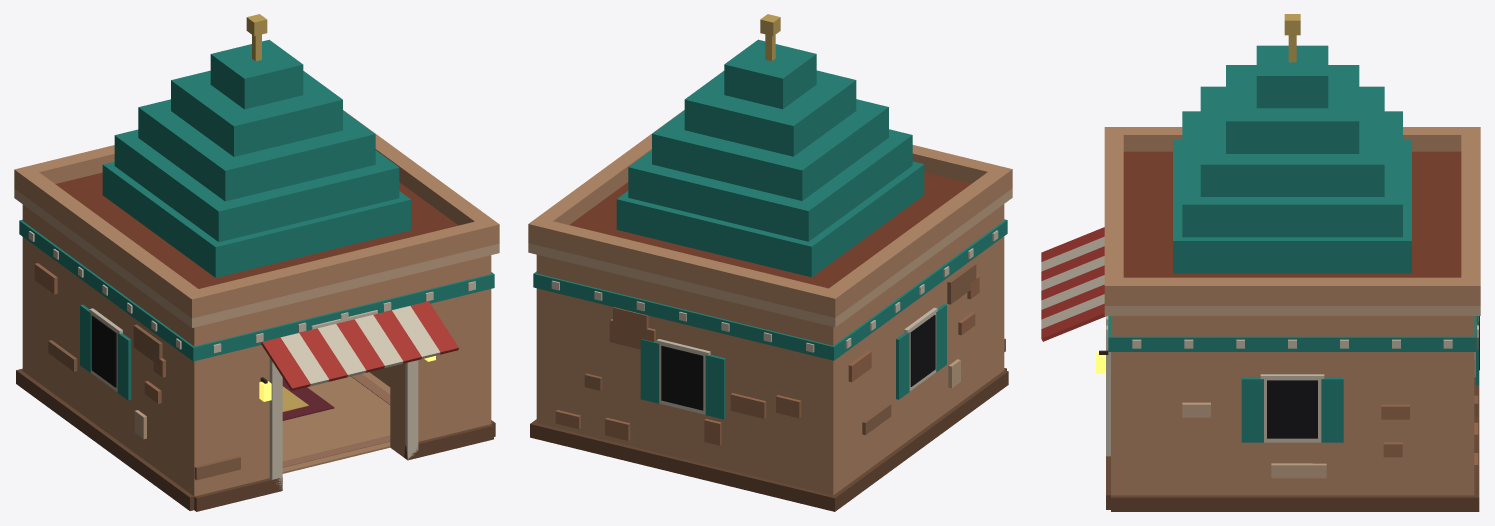
The model's file is dd_quarter_a.glb.
The picture shows the model from 3 angles, left to right: view 1: azimuth 30°, elevation 25°; view 2: azimuth 150°, elevation 25°; view 3: azimuth 270°, elevation 25°; orthographic projection. The views are drawn at different scales.
Parts seen in each view (by area): view 1: DUBG_dd_quarter_a, DUBG_dd_quarter_a_roof; view 2: DUBG_dd_quarter_a, DUBG_dd_quarter_a_roof; view 3: DUBG_dd_quarter_a_roof, DUBG_dd_quarter_a.
Part boxes in pixels (<box>): DUBG_dd_quarter_a: <box>16,204,495,511</box>; DUBG_dd_quarter_a_roof: <box>14,14,499,327</box>; DUBG_dd_quarter_a: <box>530,204,1008,511</box>; DUBG_dd_quarter_a_roof: <box>528,14,1012,327</box>; DUBG_dd_quarter_a_roof: <box>1104,14,1480,315</box>; DUBG_dd_quarter_a: <box>1041,227,1479,511</box>.
Bounding box in the file's own units: 11.8 × 14.4 × 13.78.
